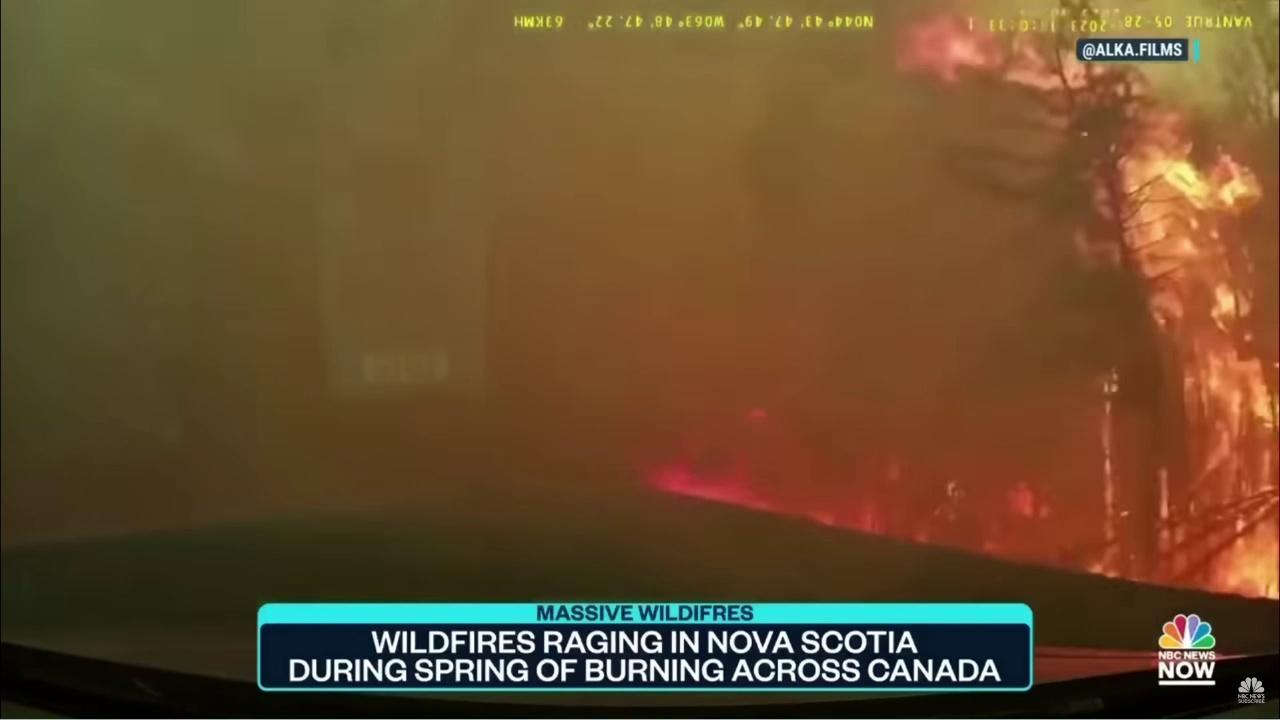fire: (891, 8, 1280, 602), (635, 445, 934, 547), (1003, 478, 1053, 520), (742, 406, 770, 425)
smoke: (3, 0, 1280, 658)
